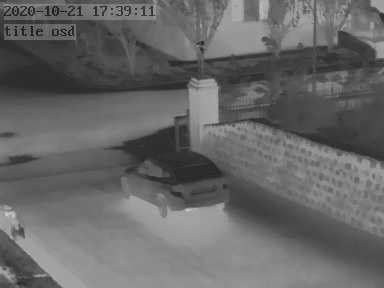person: (3, 206, 23, 243)
vehicle: (120, 145, 228, 220)
